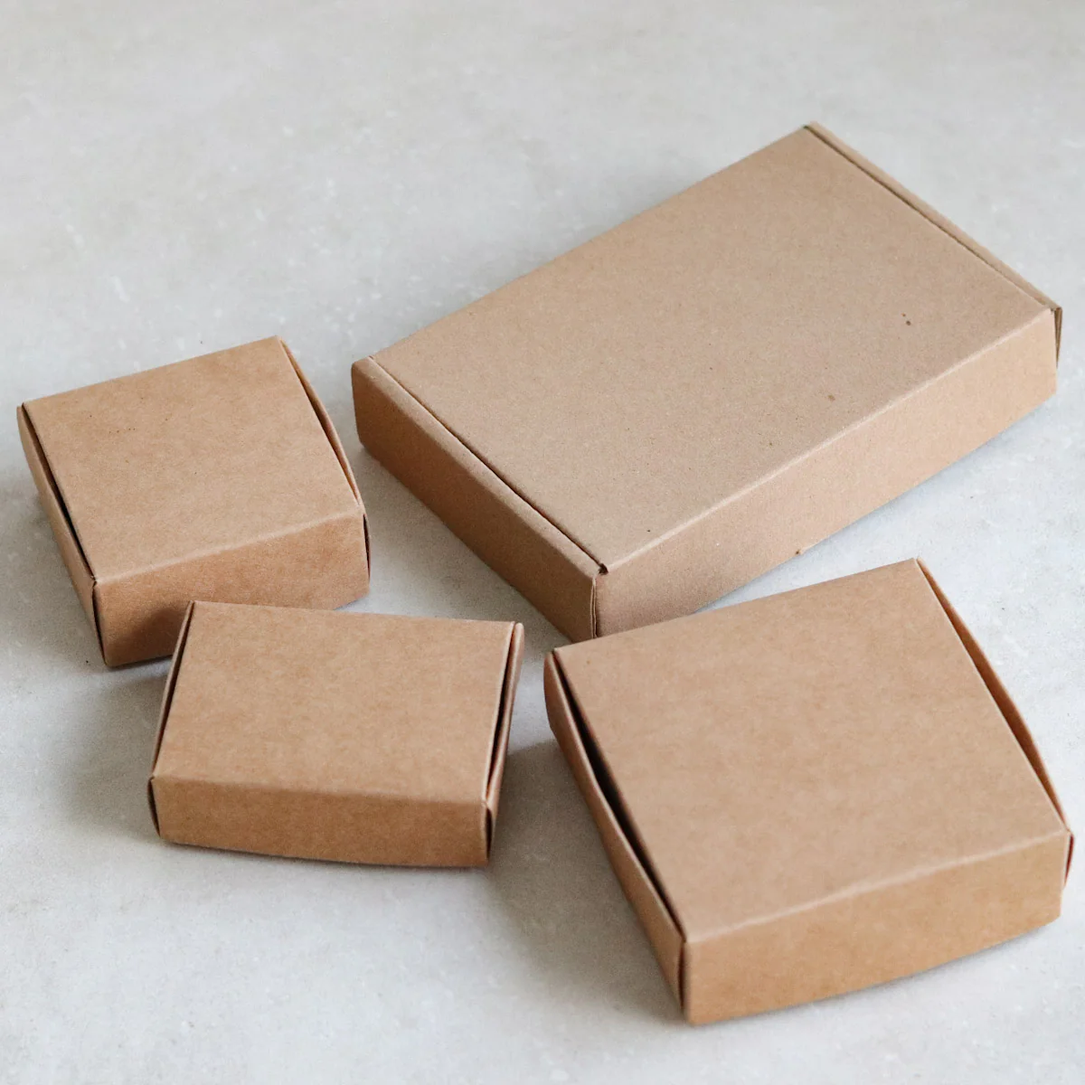non-toxic_waste: (382, 379, 947, 719), (552, 645, 1077, 1009), (141, 589, 512, 870), (30, 391, 382, 585)
